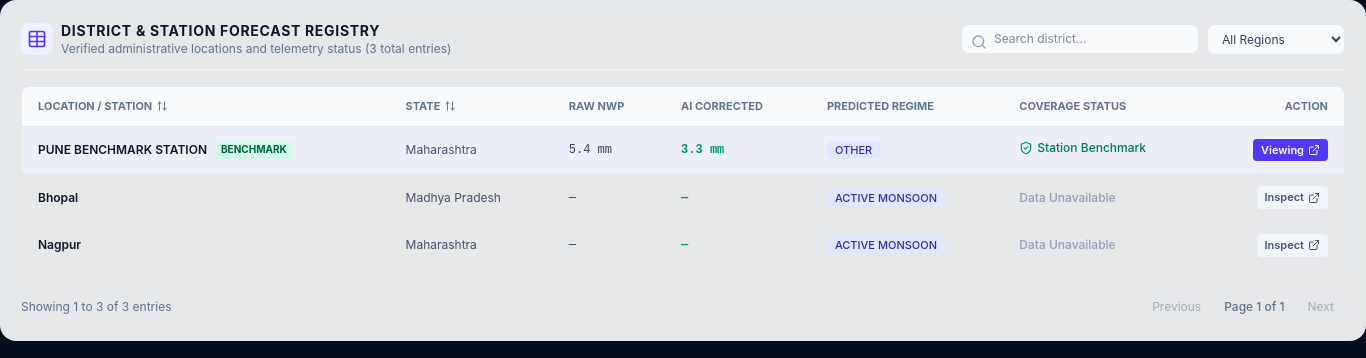
Test case: VarshaPurvanumanAI Frontend Component Suite › 7. ForecastTable renders rows, allows search filtering, and handles unavailable data
Check: the text "PUNE BENCHMARK STATION" is shown, box [38, 142, 207, 158]
Check: the text "Nagpur" is shown, box [38, 237, 81, 253]
Note: Search filter test
Type "Bhopal" into the field with placeholder "Search district...". click: (1080, 39)
box: [961, 24, 1199, 54]
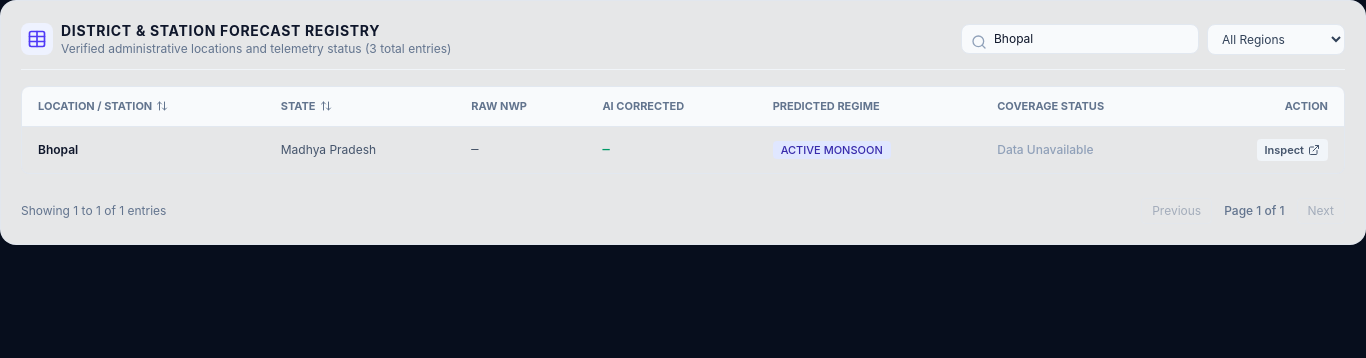
Check: the text "Bhopal" is shown, box [38, 142, 78, 158]
Check: the text "Nagpur" is gone
